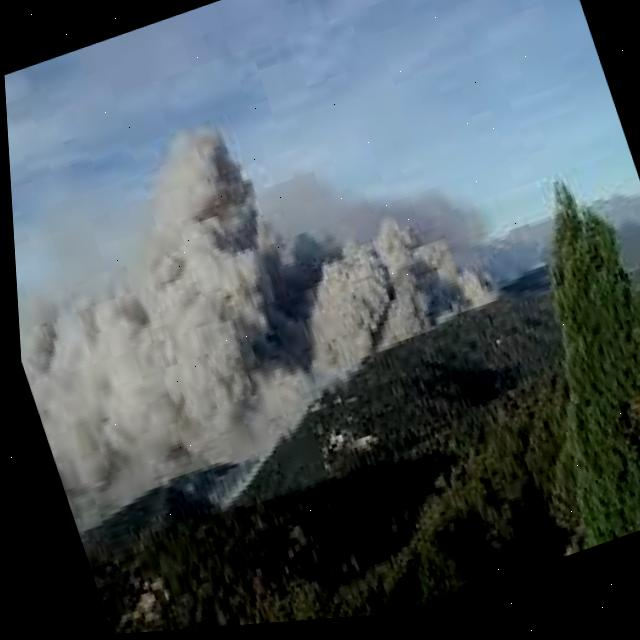smoke: (14, 129, 506, 528)
